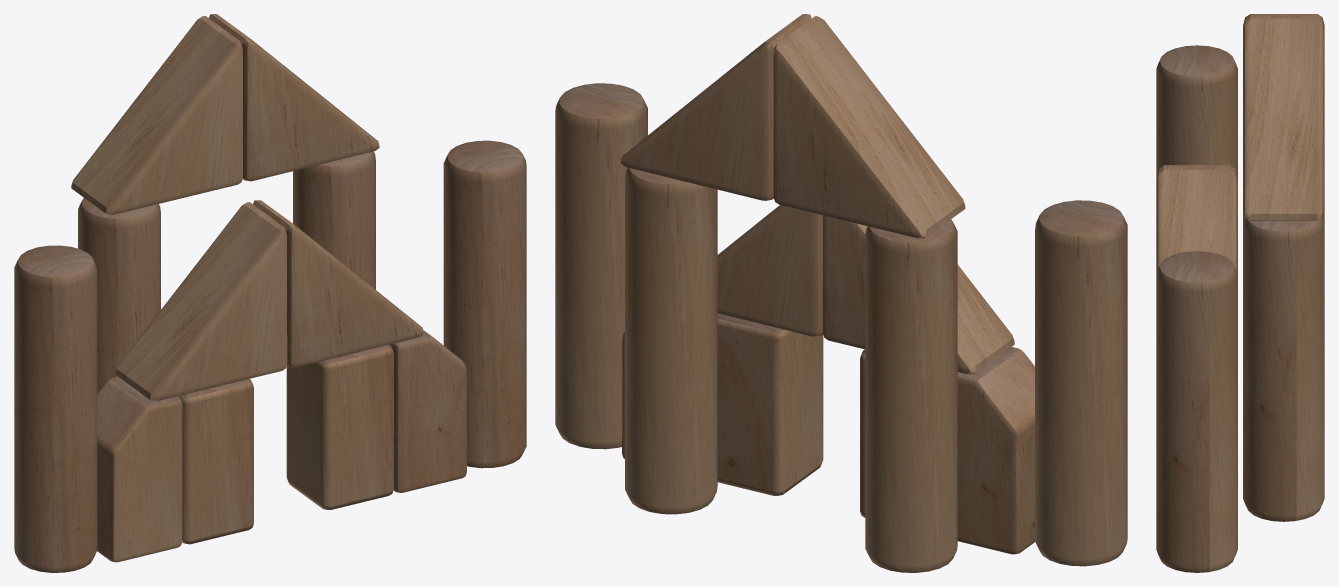
The picture shows the model from 3 angles, left to right: view 1: azimuth 30°, elevation 25°; view 2: azimuth 150°, elevation 25°; view 3: azimuth 270°, elevation 25°; orthographic projection. The views are drawn at different scales.
Visible parts, largest first — view 1: cylinder_block1, cylinder_block4, wedge_block4, wedge_block2, Block1, bevel_block1, wedge_block3, wedge_block1, Block2, bevel_block2, cylinder_block3, cylinder_block2; view 2: cylinder_block1, cylinder_block3, cylinder_block2, cylinder_block4, wedge_block2, Block1, bevel_block1, wedge_block1, wedge_block3, wedge_block4, Block2; view 3: cylinder_block4, cylinder_block2, wedge_block1, cylinder_block1, wedge_block3, wedge_block2, wedge_block4.
Part boxes in pixels (x1,y1,x2,y2): cylinder_block1: [14, 245, 97, 572]; cylinder_block4: [443, 140, 526, 468]; wedge_block4: [115, 202, 287, 401]; wedge_block2: [71, 15, 242, 215]; Block1: [286, 345, 393, 509]; bevel_block1: [97, 376, 182, 562]; wedge_block3: [253, 200, 423, 367]; wedge_block1: [209, 14, 379, 181]; Block2: [178, 379, 253, 544]; bevel_block2: [389, 330, 466, 492]; cylinder_block3: [78, 198, 160, 393]; cylinder_block2: [293, 151, 375, 289]; cylinder_block1: [1035, 200, 1127, 566]; cylinder_block3: [865, 219, 957, 572]; cylinder_block2: [625, 167, 717, 514]; cylinder_block4: [555, 83, 647, 449]; wedge_block2: [773, 16, 965, 239]; Block1: [717, 313, 823, 495]; bevel_block1: [957, 347, 1034, 554]; wedge_block1: [621, 14, 811, 200]; wedge_block3: [717, 205, 822, 336]; wedge_block4: [823, 215, 1014, 374]; Block2: [860, 349, 865, 517]; cylinder_block4: [1156, 251, 1237, 572]; cylinder_block2: [1243, 218, 1324, 521]; wedge_block1: [1243, 18, 1324, 220]; cylinder_block1: [1156, 45, 1237, 175]; wedge_block3: [1156, 169, 1237, 273]; wedge_block2: [1243, 14, 1324, 32]; wedge_block4: [1156, 165, 1237, 183].
Bounding box in the file's own units: 24.33 × 20.77 × 7.21.
6 materials, 6 textured.
